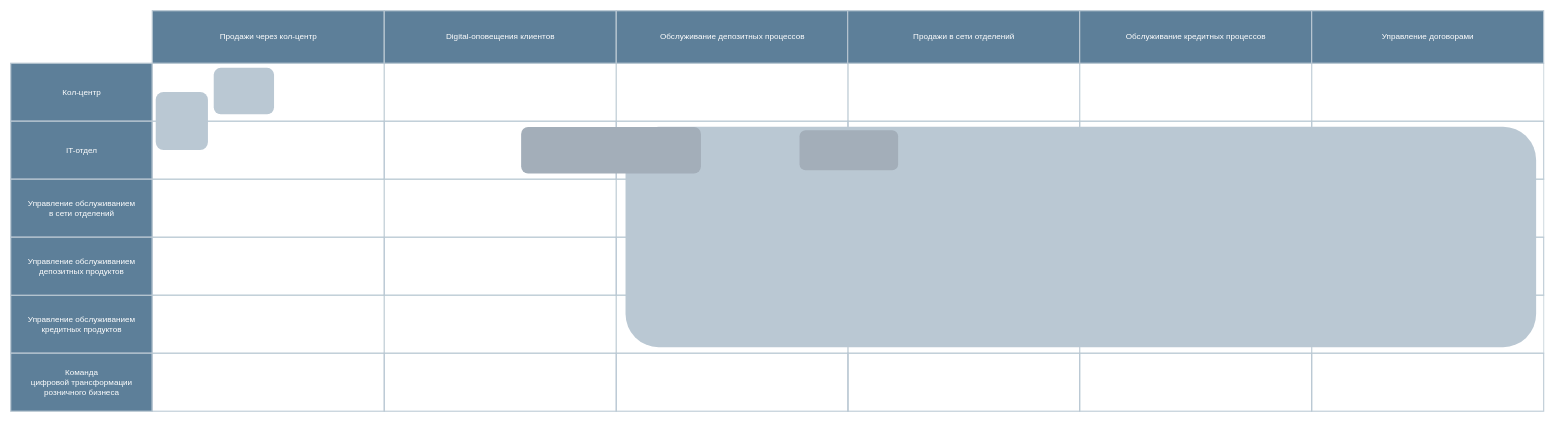
This 1554x422 diagram has some shape labels left out. Each missing label, with the centre of its shape:
АБС: (1080,236)
Интернет-банк: (848,150)
Система кол-центра: (181,121)
Система партнерского кол-центра: (243,91)
СМС-шлюз телеком-оператора: (611,150)
